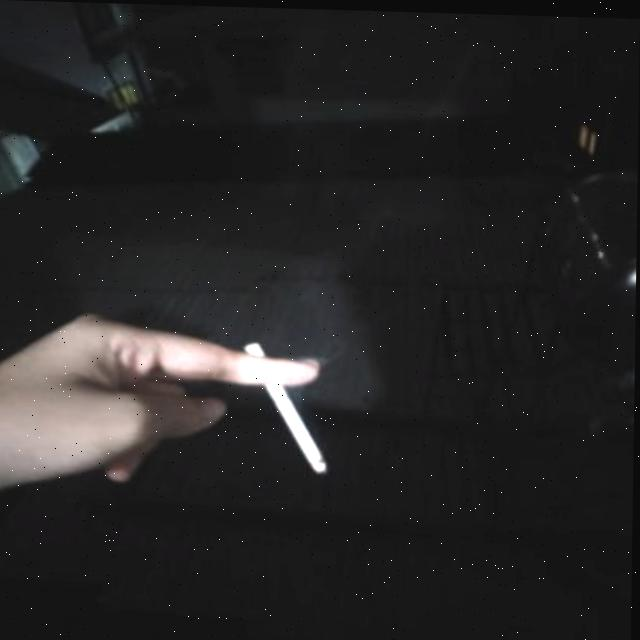cigarette: (242, 341, 333, 476)
